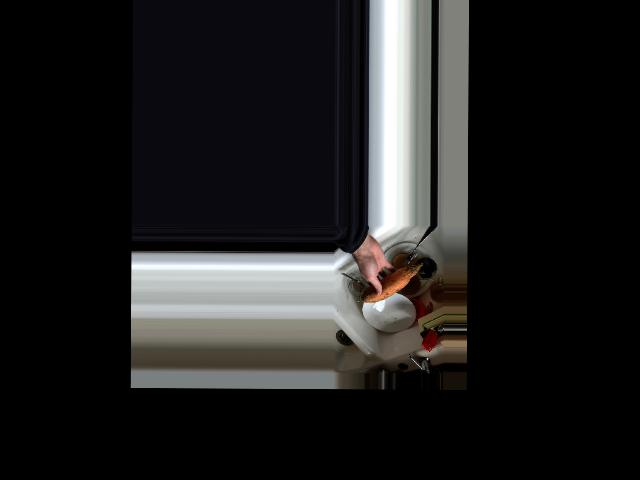sweet_potato: (360, 260, 421, 305)
